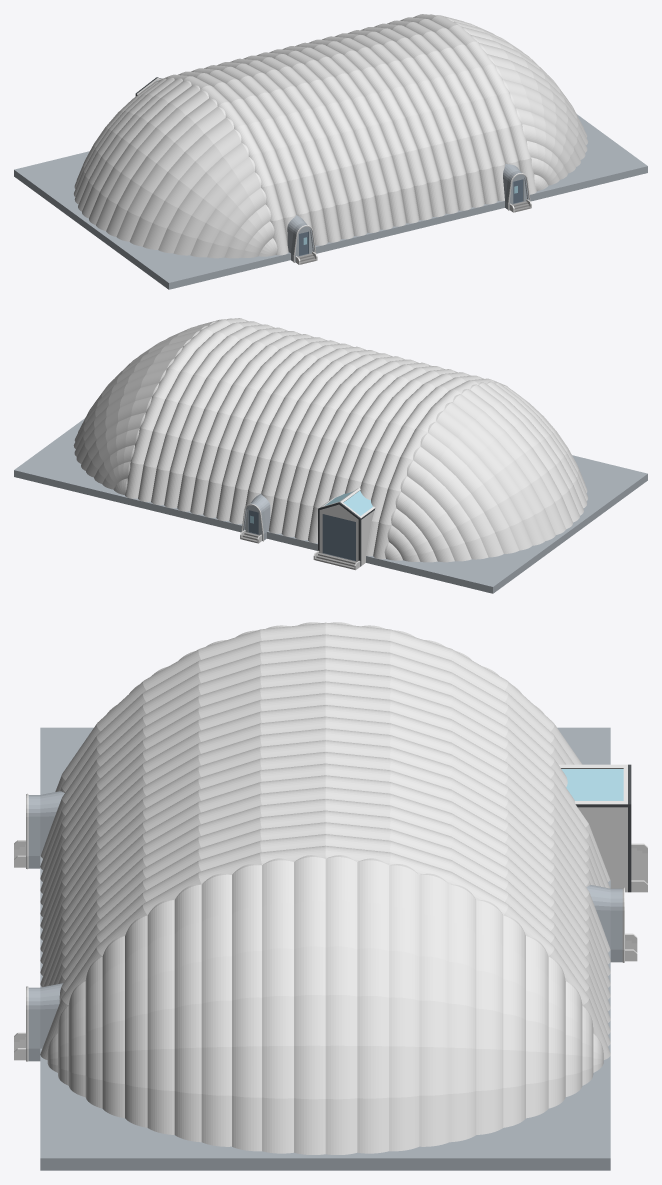
Rendered from airdome.glb.
3 views of the same model, one above another, from view 1: azimuth 30°, elevation 25°; view 2: azimuth 150°, elevation 25°; view 3: azimuth 270°, elevation 25° (orthographic). The views are drawn at different scales.
Parts seen in each view (by area): view 1: G-Object.009, _C-组件#4 (Loose Mesh).001, _G-Object (Loose Mesh), _C-组件#4 (Loose Mesh), _C-组件#6 (Loose Mesh).001, _C-组件#6 (Loose Mesh); view 2: G-Object.009, _C-组件#4 (Loose Mesh).001, _G-Object (Loose Mesh), _C-组件#4 (Loose Mesh), _C-组件#7 (Loose Mesh), G-Object.008, _C-组件#6 (Loose Mesh).002, G-Object.007; view 3: G-Object.009, _C-组件#4 (Loose Mesh), _G-Object (Loose Mesh), _C-组件#7 (Loose Mesh), _C-组件#6 (Loose Mesh), _C-组件#6 (Loose Mesh).001, _C-组件#6 (Loose Mesh).002, G-Object.010, G-Object.007.
Boxes of the visible parts, <box> form: G-Object.009: <box>154,14,536,255</box>; _C-组件#4 (Loose Mesh).001: <box>74,78,275,258</box>; _G-Object (Loose Mesh): <box>14,114,647,289</box>; _C-组件#4 (Loose Mesh): <box>434,15,588,190</box>; _C-组件#6 (Loose Mesh).001: <box>287,215,314,262</box>; _C-组件#6 (Loose Mesh): <box>503,164,528,209</box>; G-Object.009: <box>125,318,507,559</box>; _C-组件#4 (Loose Mesh).001: <box>386,382,587,562</box>; _G-Object (Loose Mesh): <box>14,418,647,593</box>; _C-组件#4 (Loose Mesh): <box>73,319,227,494</box>; _C-组件#7 (Loose Mesh): <box>318,487,375,566</box>; G-Object.008: <box>322,514,355,561</box>; _C-组件#6 (Loose Mesh).002: <box>243,494,270,540</box>; G-Object.007: <box>313,550,360,570</box>; G-Object.009: <box>40,622,610,1059</box>; _C-组件#4 (Loose Mesh): <box>47,857,603,1154</box>; _G-Object (Loose Mesh): <box>40,727,610,1170</box>; _C-组件#7 (Loose Mesh): <box>558,764,631,892</box>; _C-组件#6 (Loose Mesh): <box>28,983,63,1061</box>; _C-组件#6 (Loose Mesh).001: <box>28,791,64,868</box>; _C-组件#6 (Loose Mesh).002: <box>586,885,622,962</box>; G-Object.010: <box>47,855,603,1053</box>; G-Object.007: <box>631,843,647,892</box>.
Size of the model in its own units: 55 by 13.07 by 34.23.
